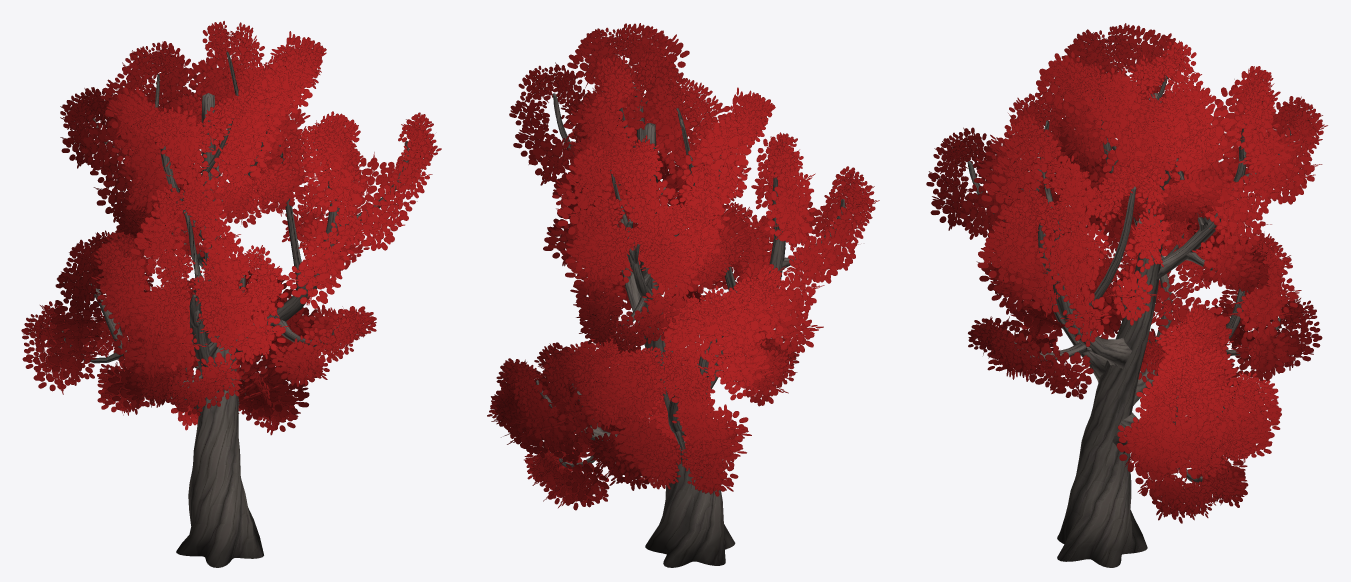
Rendered from TwistedTree_3.gltf.
3 renders of one model, left to right at view 1: azimuth 30°, elevation 25°; view 2: azimuth 150°, elevation 25°; view 3: azimuth 270°, elevation 25°, orthographic. The views are drawn at different scales.
Parts seen in each view (by area): view 1: TwistedTree_3; view 2: TwistedTree_3; view 3: TwistedTree_3.
Boxes of the visible parts, x1,y1,x2,y2 form: TwistedTree_3: [21, 21, 441, 567]; TwistedTree_3: [487, 23, 879, 567]; TwistedTree_3: [926, 23, 1327, 567].
Size of the model in its own units: 11.36 by 16.07 by 11.51.
Materials: 2 (2 with a texture image).
